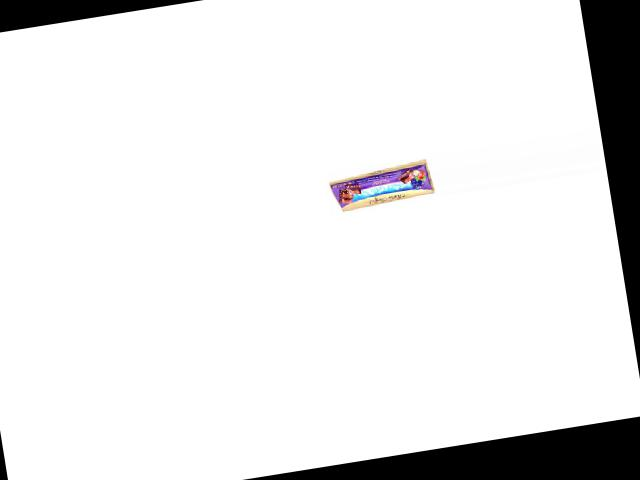chocolate: (322, 158, 434, 209)
